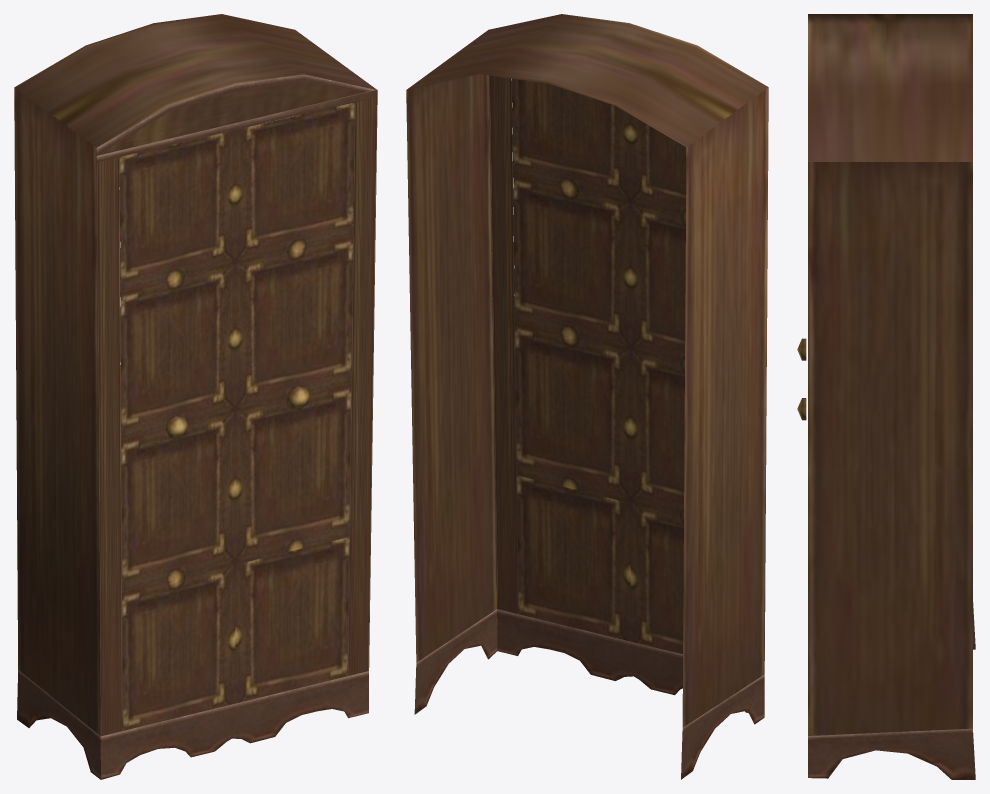
Rendered from cabinet_fancy_tall.fbx.
3 views of the same model, side by side, from view 1: azimuth 30°, elevation 25°; view 2: azimuth 150°, elevation 25°; view 3: azimuth 270°, elevation 25° (orthographic).
Visible parts, largest first — view 1: cabinet_fancy_tall_mesh; view 2: cabinet_fancy_tall_mesh; view 3: cabinet_fancy_tall_mesh.
Part boxes in pixels (box(x1,y1,x2,y2)): cabinet_fancy_tall_mesh: box(14, 14, 377, 779); cabinet_fancy_tall_mesh: box(406, 14, 768, 779); cabinet_fancy_tall_mesh: box(797, 14, 975, 779).
Bounding box in the file's own units: 475 × 1072 × 261.
1 material, 1 textured.
